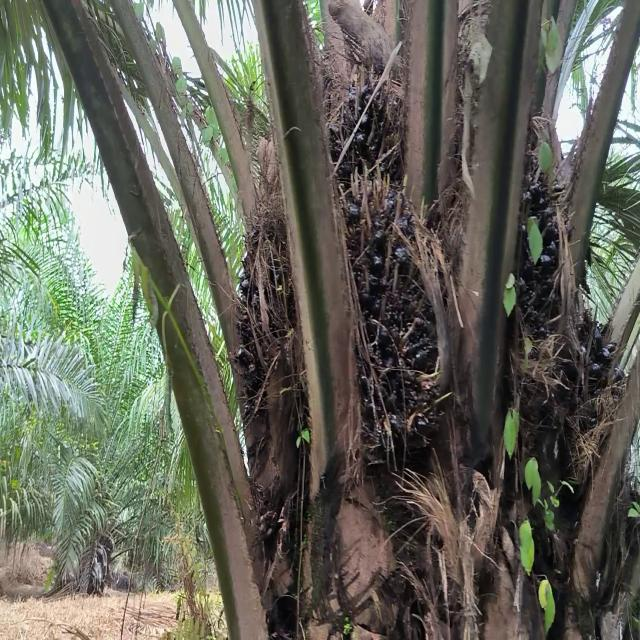palm-oil: (335, 168, 447, 484), (231, 202, 311, 479), (526, 289, 617, 524), (316, 66, 404, 276), (501, 153, 563, 403)
